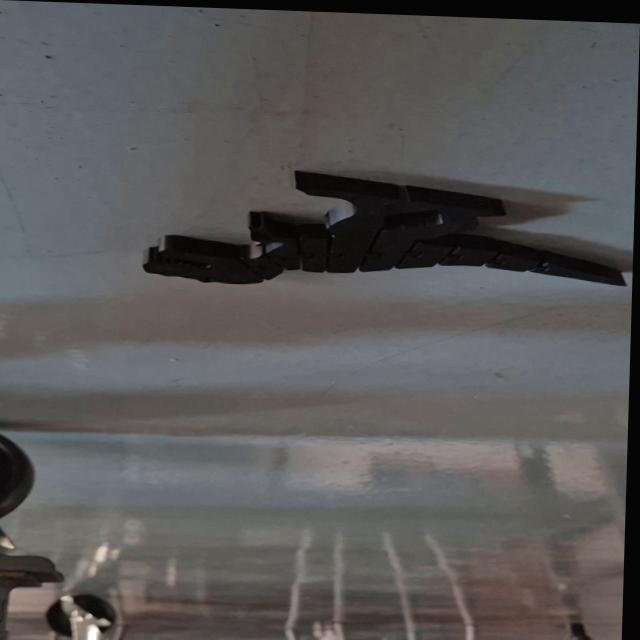dino: (140, 163, 632, 299)
